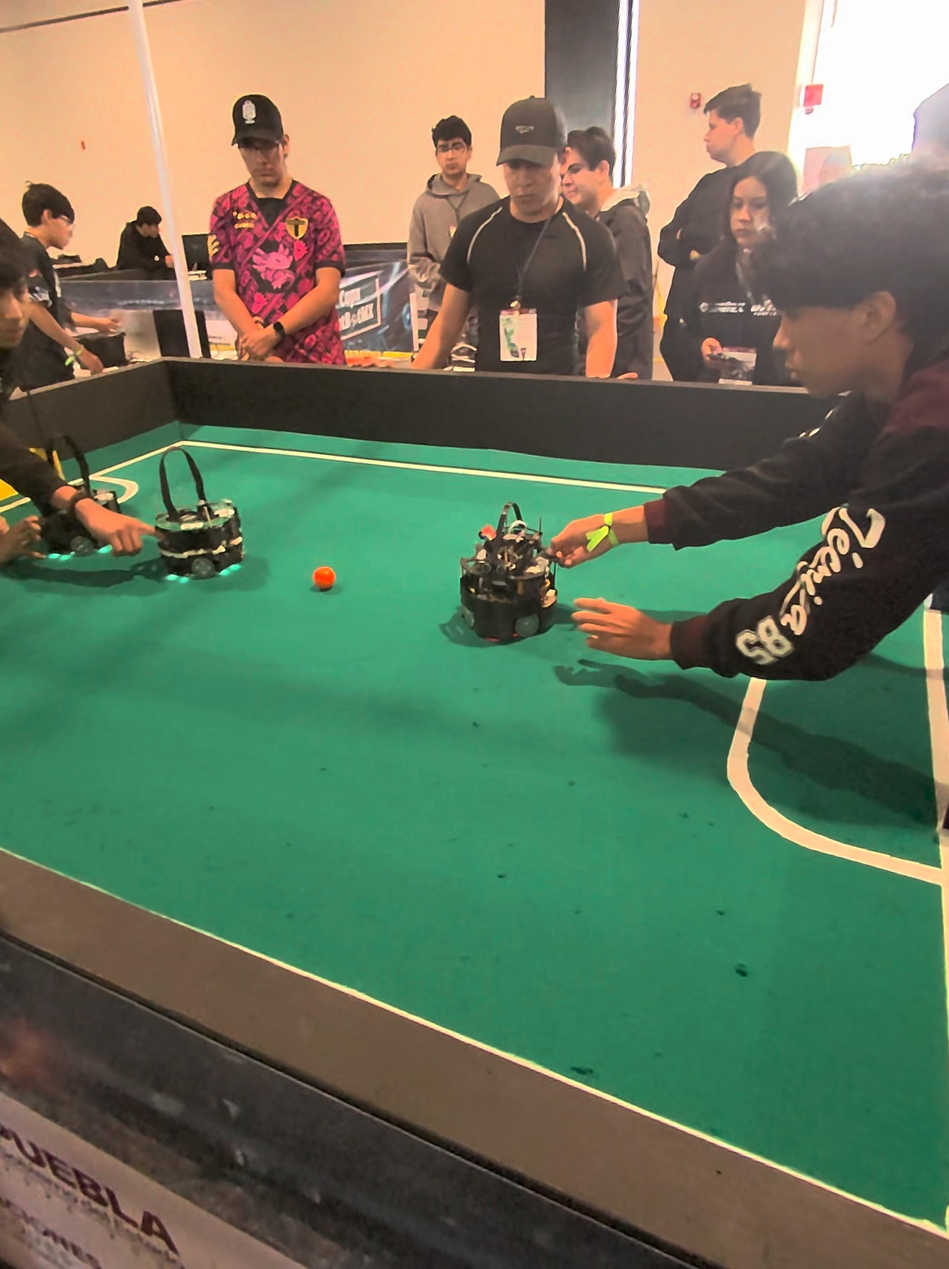Robot: (21, 427, 125, 602), (452, 498, 563, 654), (156, 443, 252, 597)
pelota: (313, 570, 336, 595)
